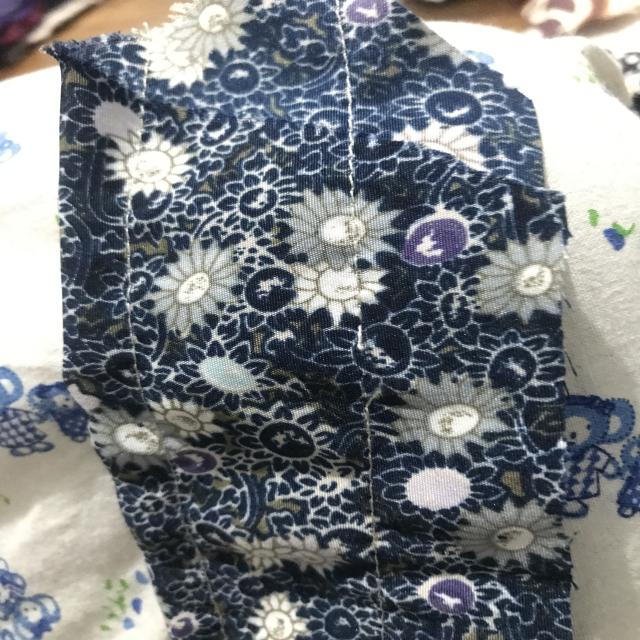broken: (340, 319, 414, 424)
